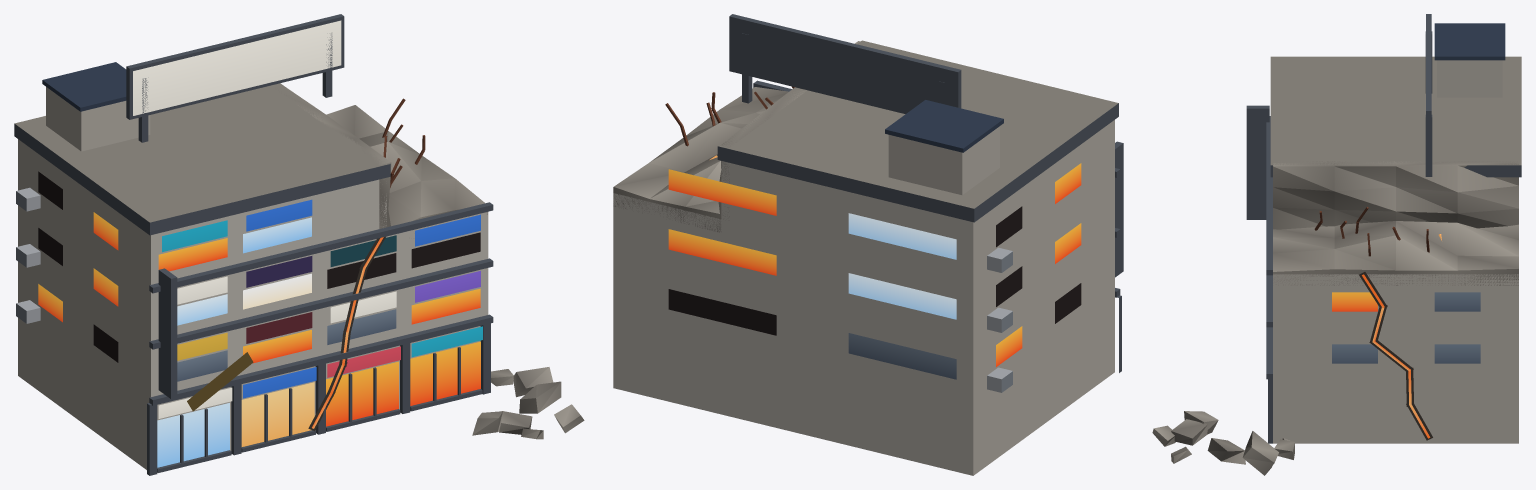
The model's file is bld_com_A_damaged.meshopt.glb.
3 renders of one model, left to right at view 1: azimuth 30°, elevation 25°; view 2: azimuth 150°, elevation 25°; view 3: azimuth 270°, elevation 25°, orthographic. The views are drawn at different scales.
Parts seen in each view (by area): view 1: bld_com_A_damaged; view 2: bld_com_A_damaged; view 3: bld_com_A_damaged.
Boxes of the visible parts, <box> form: bld_com_A_damaged: <box>14,14,584,475</box>; bld_com_A_damaged: <box>613,14,1123,475</box>; bld_com_A_damaged: <box>1152,14,1521,475</box>.
Bounding box in the file's own units: 26.42 × 21.29 × 22.5.
